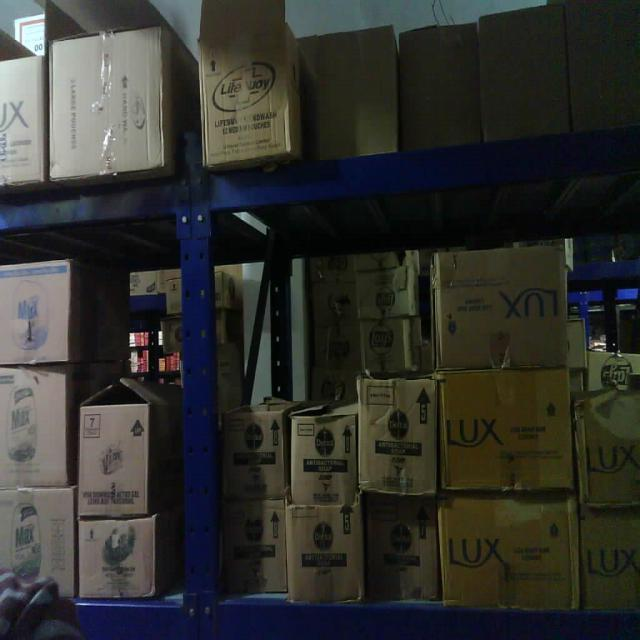cardboxes: (436, 491, 584, 613), (437, 370, 576, 492), (434, 248, 570, 372), (45, 32, 168, 168), (199, 0, 294, 163), (474, 2, 576, 139), (309, 25, 402, 159), (396, 21, 486, 148), (360, 373, 440, 496), (0, 364, 73, 490), (78, 398, 154, 518), (0, 482, 77, 600), (0, 253, 75, 370), (364, 498, 442, 606), (288, 503, 364, 606), (286, 408, 362, 508), (76, 516, 158, 600), (220, 408, 289, 504), (223, 501, 290, 598), (0, 55, 47, 186)
